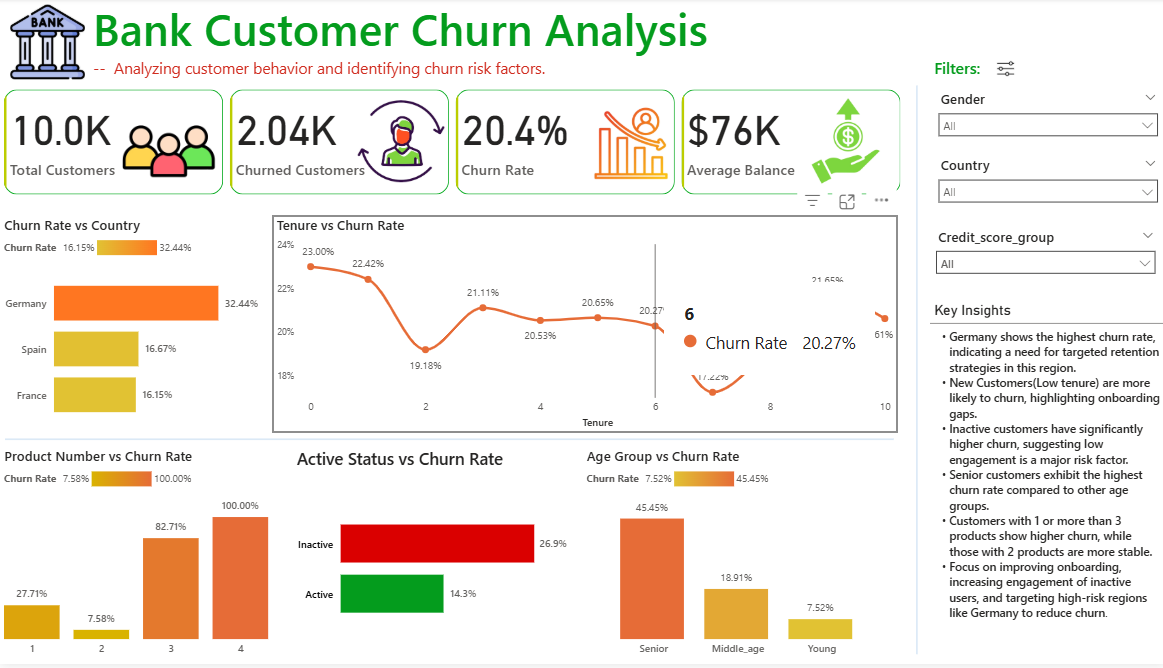

This screenshot's page, from the dashboard's own definition file:
{"tool":"powerbi","page":{"name":"Page 1","canvas":[1400,800],"ordinal":0},"visuals":[{"type":"cardVisual","fields":{"Data":["bank bank_customers.Total Customers","bank bank_customers.Churned Customers","bank bank_customers.Churn Rate","bank bank_customers.Average Balance"]},"box":[0,105.1,1086.6,136.6],"z":0},{"type":"barChart","title":"Churn Rate vs Country","fields":{"Category":["bank bank_customers.country"],"Y":["bank bank_customers.Churn Rate"]},"box":[0,261.2,315.2,265.7],"z":1000},{"type":"clusteredColumnChart","title":"Age Group vs Churn Rate","fields":{"Category":["bank bank_customers.age_group"],"Y":["bank bank_customers.Churn Rate"]},"box":[699.4,538.8,373.7,261.2],"z":2000},{"type":"barChart","title":"Active Status vs Churn Rate","fields":{"Category":["bank bank_customers.active_status"],"Y":["bank bank_customers.Churn Rate"]},"box":[351.2,538.8,334.7,261.2],"z":3000},{"type":"clusteredColumnChart","title":"Product Number  vs Churn Rate","fields":{"Category":["bank bank_customers.product_number"],"Y":["bank bank_customers.Churn Rate"]},"box":[0,538.8,327.2,261.2],"z":4000},{"type":"lineChart","title":"Tenure vs Churn Rate ","fields":{"Category":["bank bank_customers.tenure"],"Y":["bank bank_customers.Churn Rate"]},"box":[327.2,261.2,750.4,261.2],"z":5000},{"type":"slicer","title":"Country","fields":{"Values":["bank bank_customers.country"]},"box":[1116.3,184.6,283.7,75],"z":6000},{"type":"slicer","title":"Credit Score Group","fields":{"Values":["bank bank_customers.age_group"]},"box":[1113.6,270.2,283.7,70.5],"z":7000},{"type":"textbox","box":[106.6,0,935,105.1],"z":8000},{"type":"shape","box":[6,520.8,1067.1,18],"z":9000},{"type":"shape","box":[1094.1,105.1,13.5,682.9],"z":10000},{"type":"textbox","title":"Key Insights ","box":[1116.6,364.7,283.7,435.3],"z":11000},{"type":"textbox","box":[1116.6,66,247.6,39],"z":12000},{"type":"image","box":[424.7,115.6,114.1,112.6],"z":13000},{"type":"image","box":[706.9,124.6,102.1,100.6],"z":14000},{"type":"image","box":[953,115.6,124.6,112.6],"z":15000},{"type":"image","box":[130.6,84,144.1,136.6],"z":16000},{"type":"image","box":[7.5,0,99.1,105.1],"z":17000},{"type":"slicer","title":"Gender","fields":{"Values":["bank bank_customers.gender"]},"box":[1116.6,105.1,283.7,70.5],"z":18000},{"type":"image","box":[1175.2,66,64.5,37.5],"z":18001}]}

Visuals, with their boxes in screenshot pixels (x1, y1, x2, y2), scaled from the page's 1400x800 canvas onto the 1163x668 screenshot:
cardVisual - bank bank_customers.Total Customers x bank bank_customers.Churned Customers: BBox(0, 88, 903, 202)
"Churn Rate vs Country" barChart: BBox(0, 218, 262, 440)
"Age Group vs Churn Rate" clusteredColumnChart: BBox(581, 450, 891, 667)
"Active Status vs Churn Rate" barChart: BBox(292, 450, 570, 667)
"Product Number  vs Churn Rate" clusteredColumnChart: BBox(0, 450, 272, 667)
"Tenure vs Churn Rate " lineChart: BBox(272, 218, 895, 436)
"Country" slicer: BBox(927, 154, 1162, 217)
"Credit Score Group" slicer: BBox(925, 226, 1161, 284)
textbox: BBox(89, 0, 865, 88)
shape: BBox(5, 435, 891, 450)
shape: BBox(909, 88, 920, 658)
"Key Insights " textbox: BBox(928, 305, 1162, 667)
textbox: BBox(928, 55, 1133, 88)
image: BBox(353, 97, 448, 191)
image: BBox(587, 104, 672, 188)
image: BBox(792, 97, 895, 191)
image: BBox(108, 70, 228, 184)
image: BBox(6, 0, 89, 88)
"Gender" slicer: BBox(928, 88, 1162, 147)
image: BBox(976, 55, 1030, 86)
